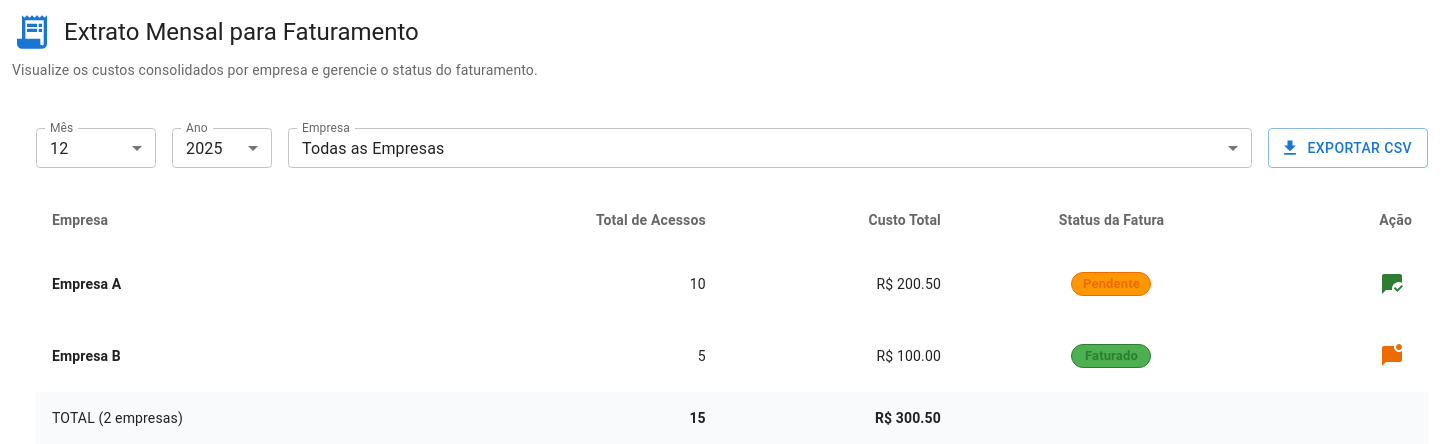
Test: AdminBillingReport Component › deve filtrar por empresa
Expected: the text "Empresa A" is shown, 36,248 -> 403,320
Press the mouse on the dropdown labelled "Todas as Empresas" at (373, 148), box 302,138 -> 444,158
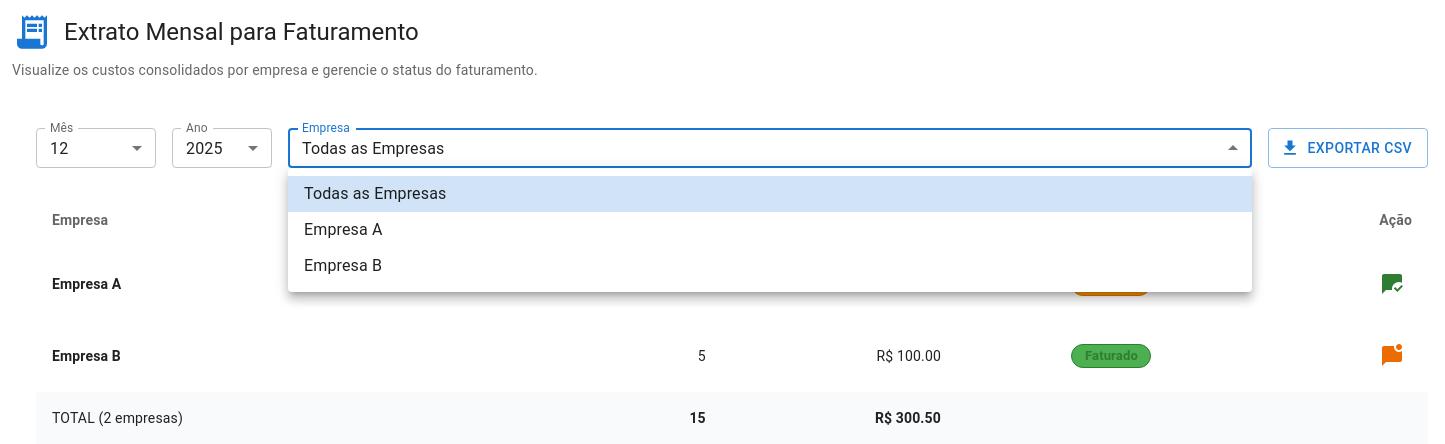
Click the option "Empresa B" at (343, 266), box 304,256 -> 382,275
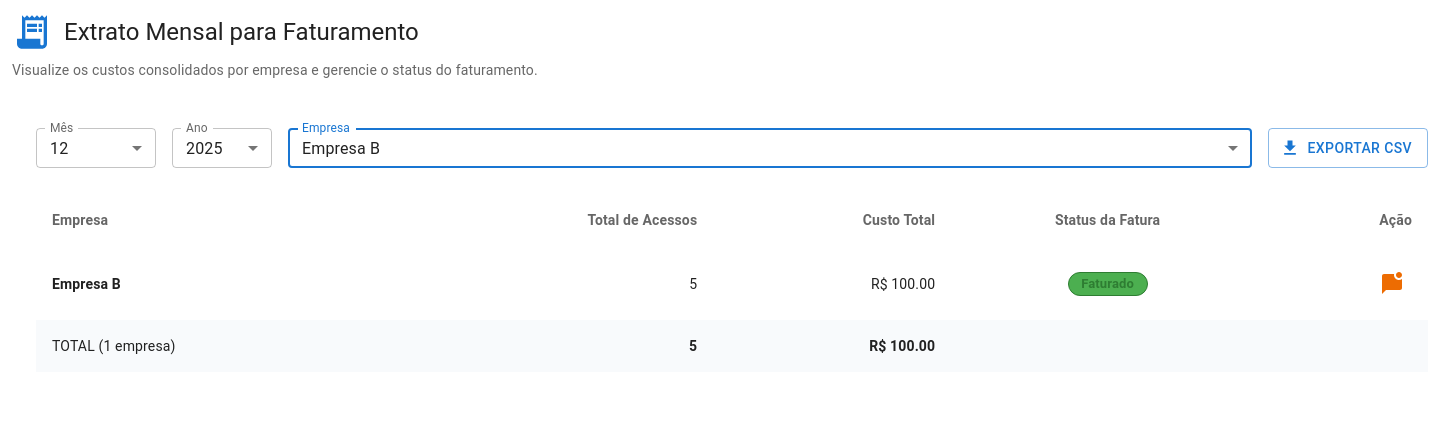
Expected: the cell "Empresa A" is gone
Expected: the text "TOTAL (1 empresa)" is shown, 36,320 -> 390,372
